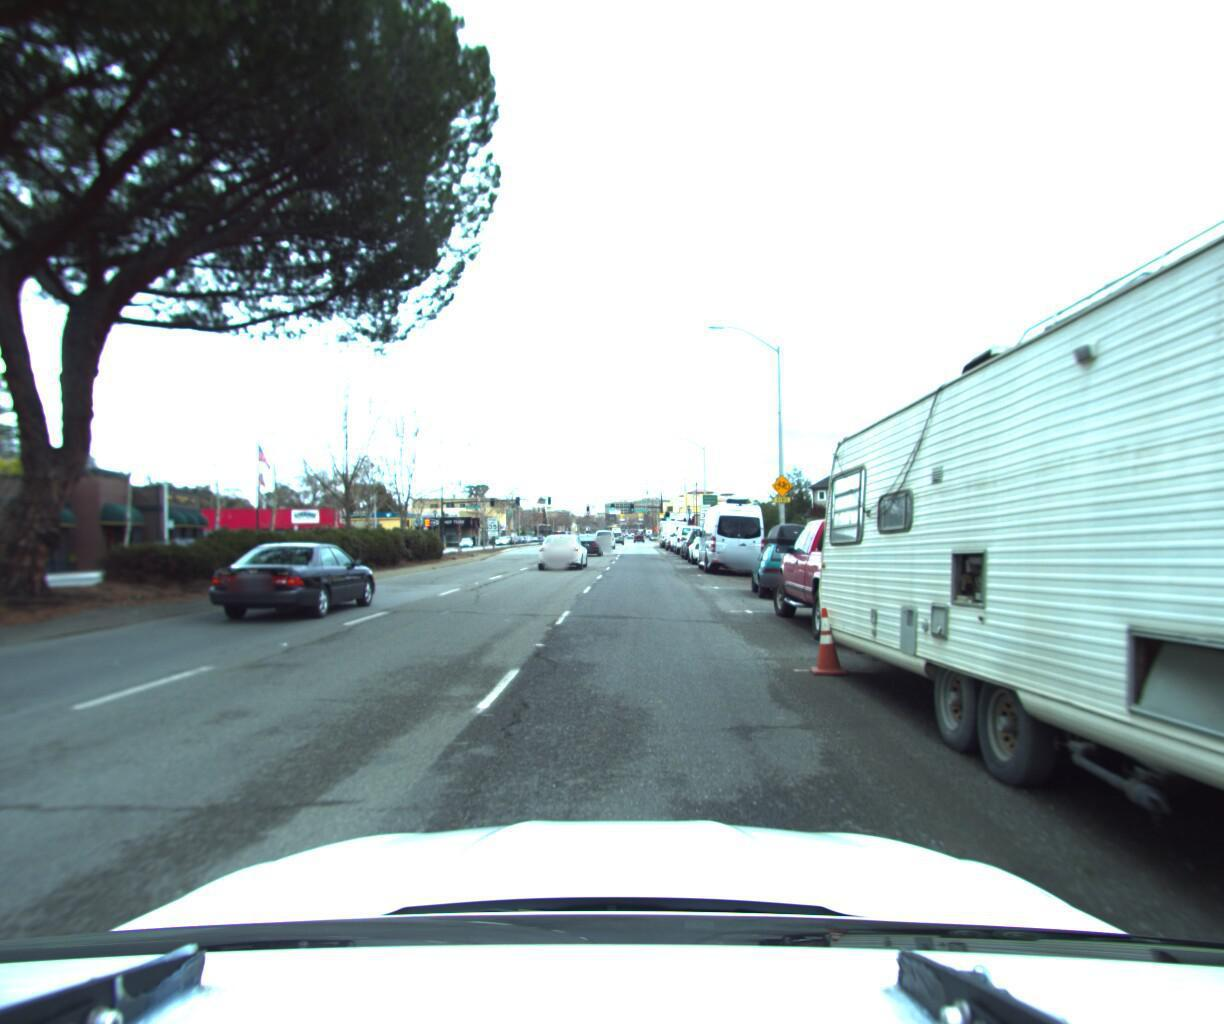car: (769, 510, 989, 652), (208, 542, 386, 628), (750, 518, 823, 598), (694, 501, 770, 571), (536, 529, 587, 568), (0, 549, 41, 592), (688, 531, 732, 562), (683, 525, 718, 558), (674, 522, 706, 551), (573, 530, 604, 555), (595, 526, 616, 543)
other_vehicle: (812, 0, 1224, 1024), (658, 517, 688, 546)
